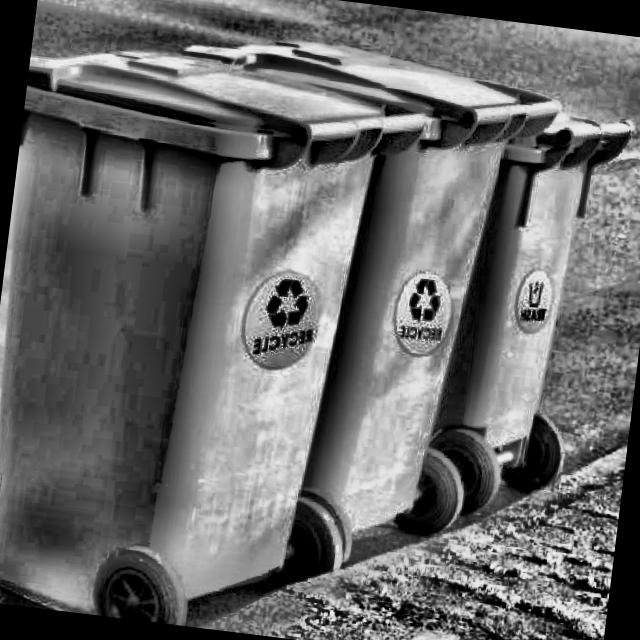Dustbin: (0, 29, 426, 640), (280, 42, 580, 623), (419, 85, 640, 555)
